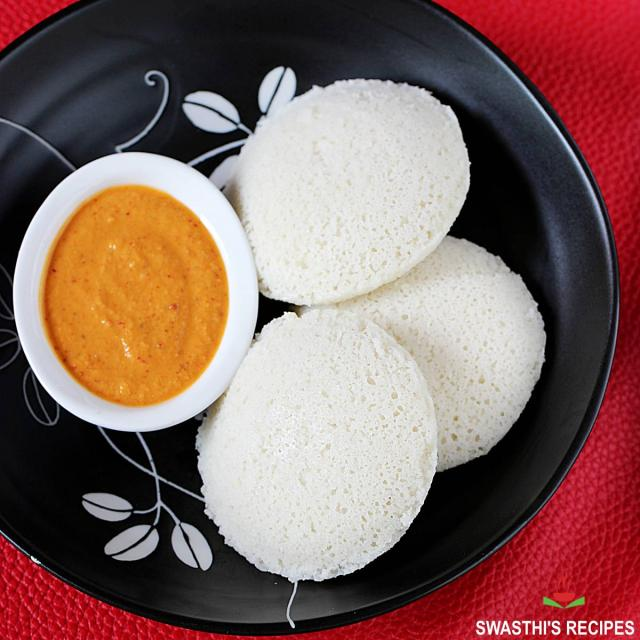IDLI: (202, 313, 438, 579), (236, 85, 474, 306), (347, 236, 541, 469)
